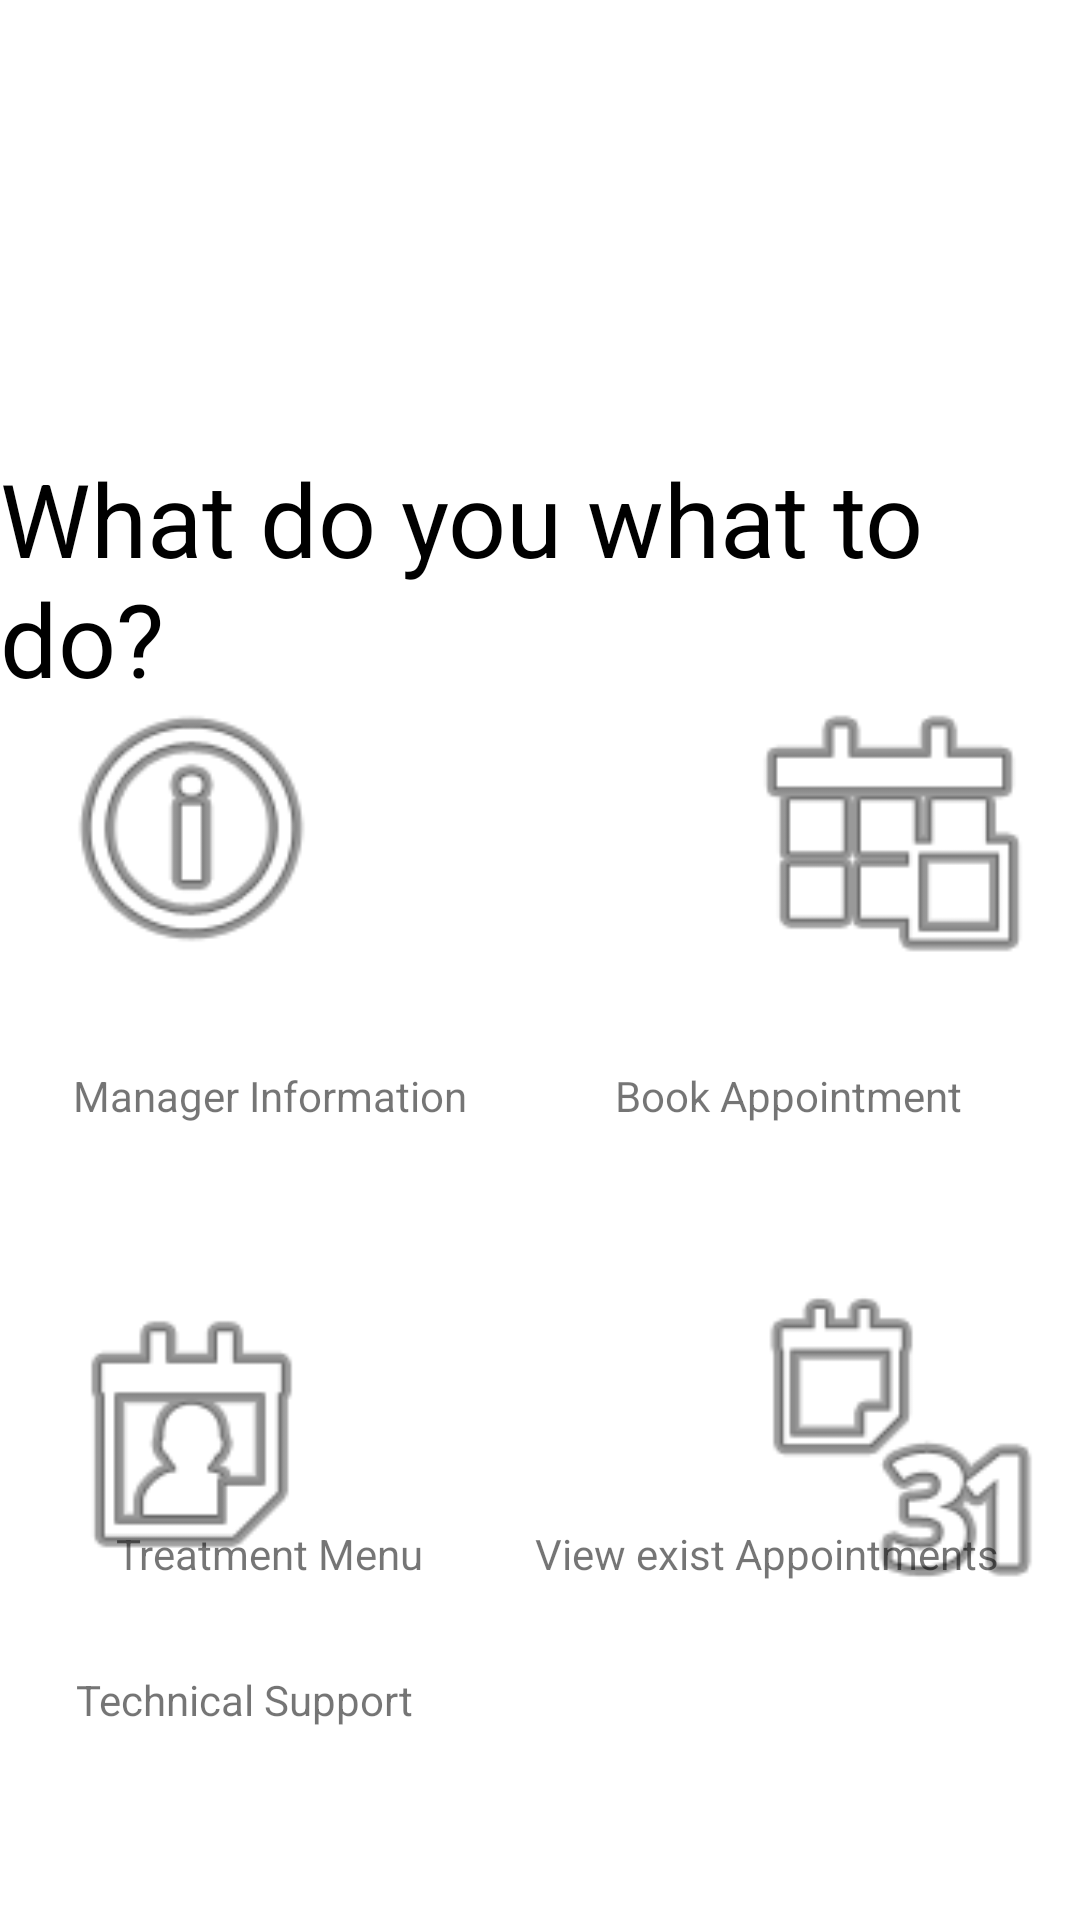

Screen size 1080px x 1920px. Icon name, then its center in pixels as [x,y]:
info details: [191,828]
month: [861,1438]
